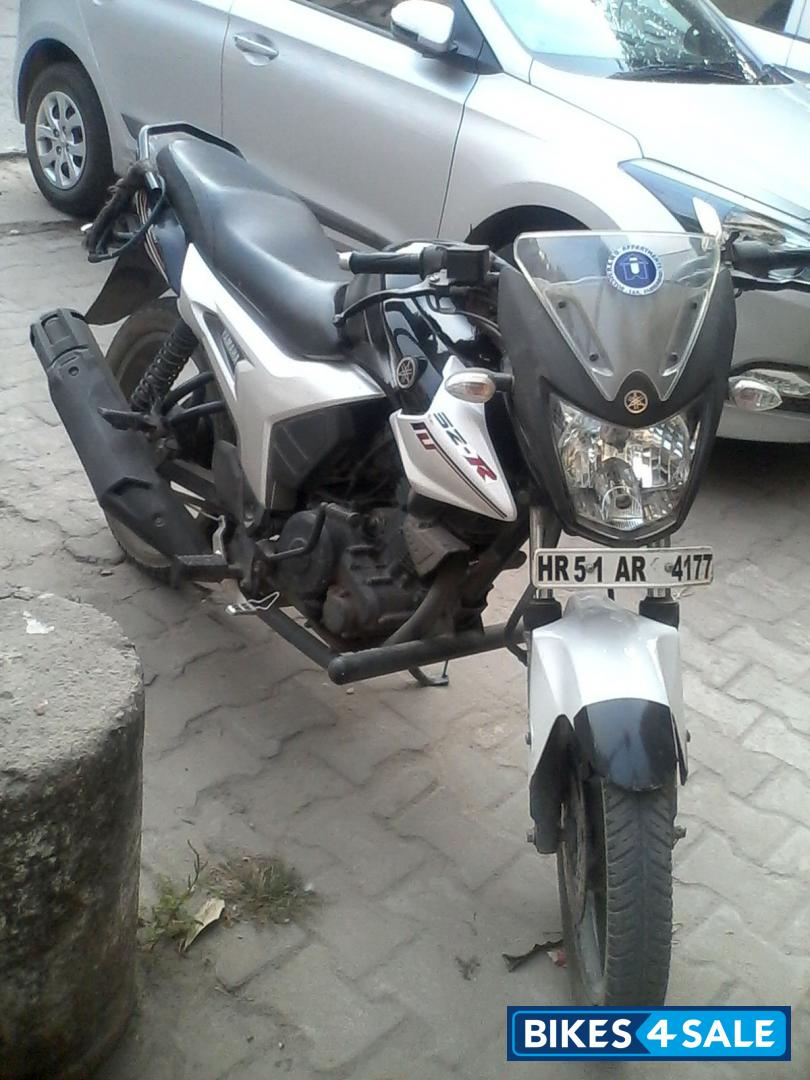numberplate: (528, 546, 718, 589)
